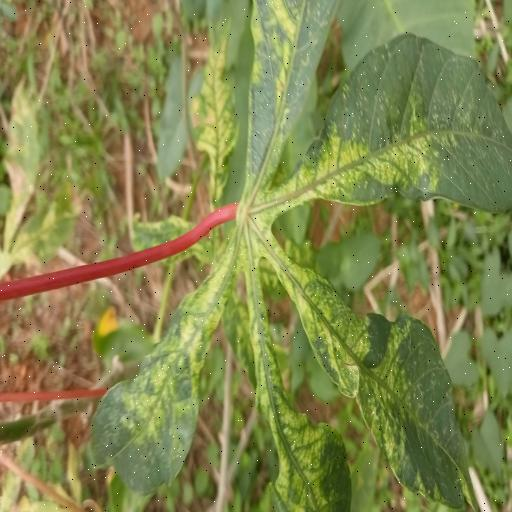Cassava_Mosaic: (86, 0, 512, 512)
